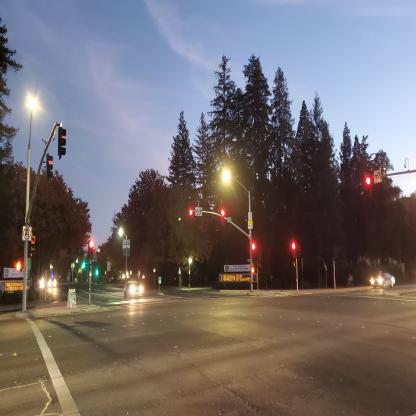left-red: (188, 205, 193, 224)
red: (364, 173, 374, 200), (87, 238, 94, 264), (251, 242, 257, 263), (291, 240, 297, 260), (220, 207, 225, 228)
